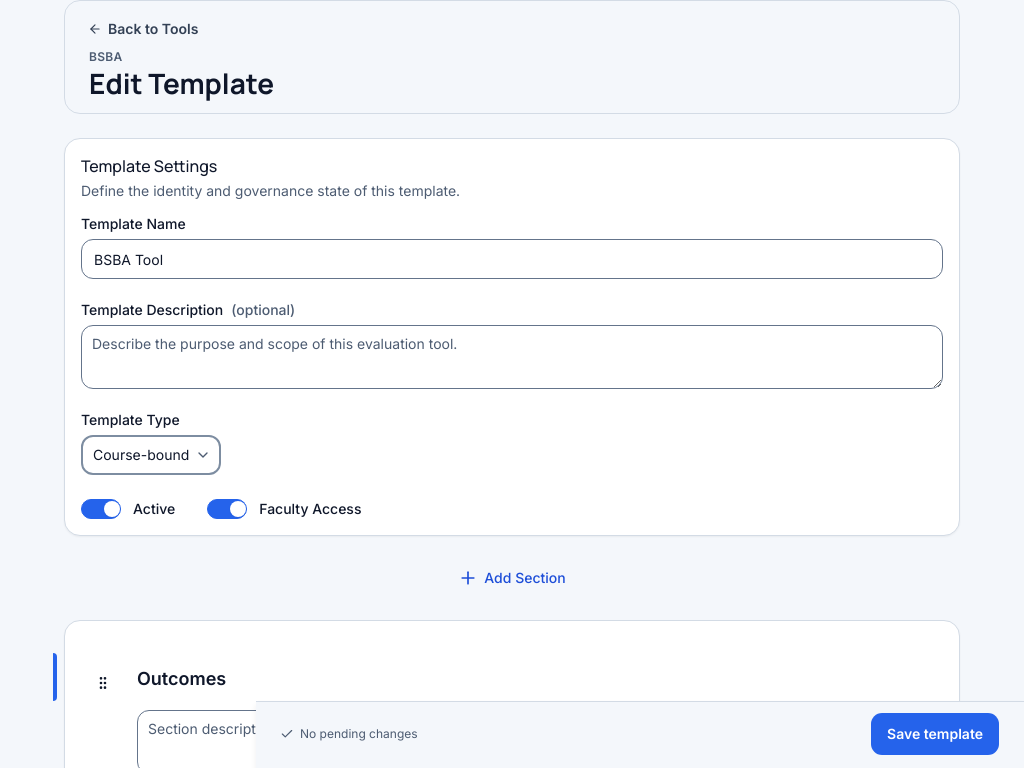
TemplateBuilder › saves program head drafts in place and shows saved state
Replace the text in the field labelled "Template Name" with "Updated Tool" at (512, 259), box left=81, top=239, right=943, bottom=279
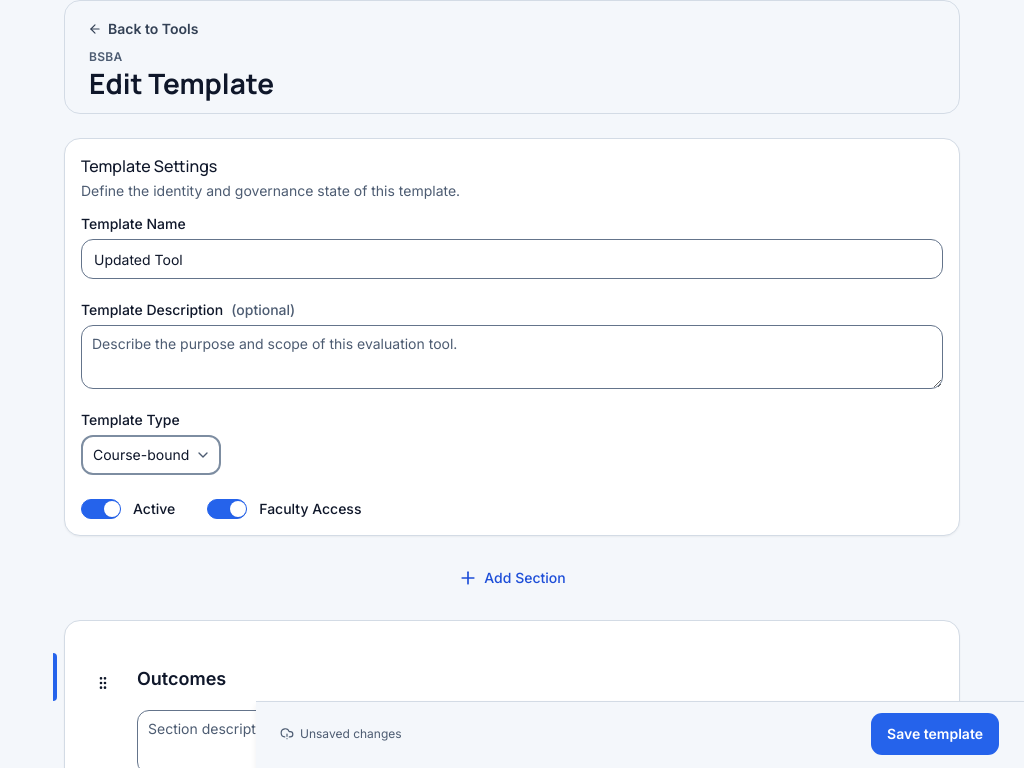
Expected: the message reads "Unsaved changes", left=300, top=726, right=402, bottom=741
Click the button "Save template" at (935, 734), box left=870, top=712, right=1000, bottom=756
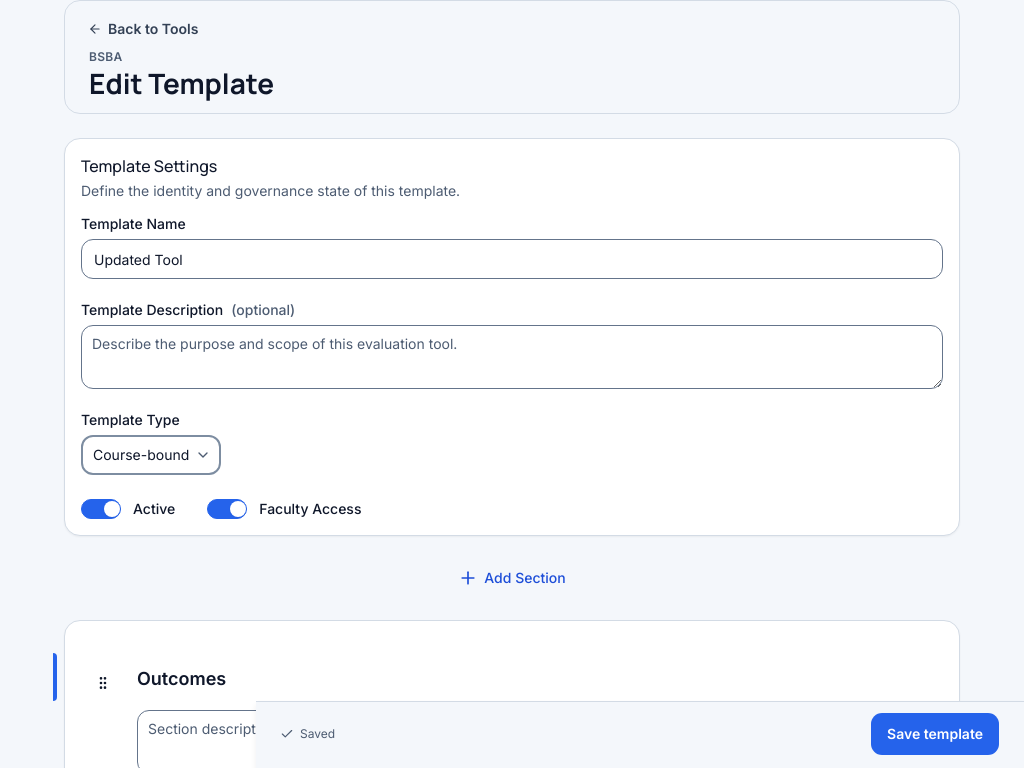
Expected: the message reads "Saved", left=300, top=726, right=335, bottom=741
